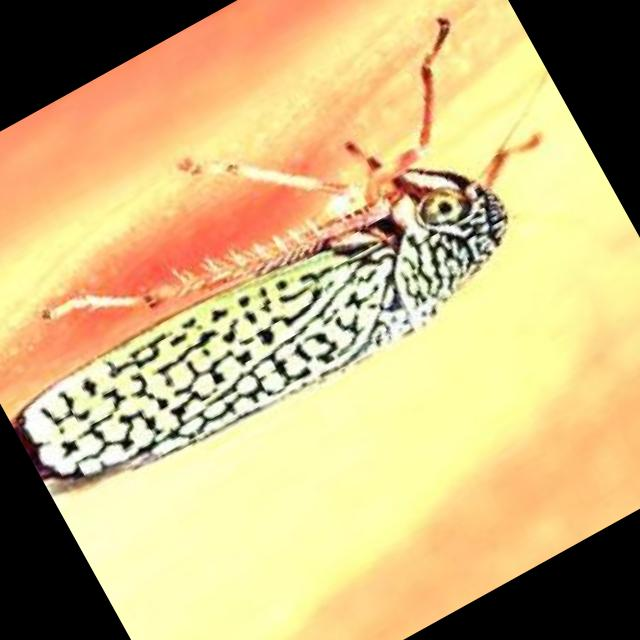green-leafhopper: (0, 105, 555, 530)
